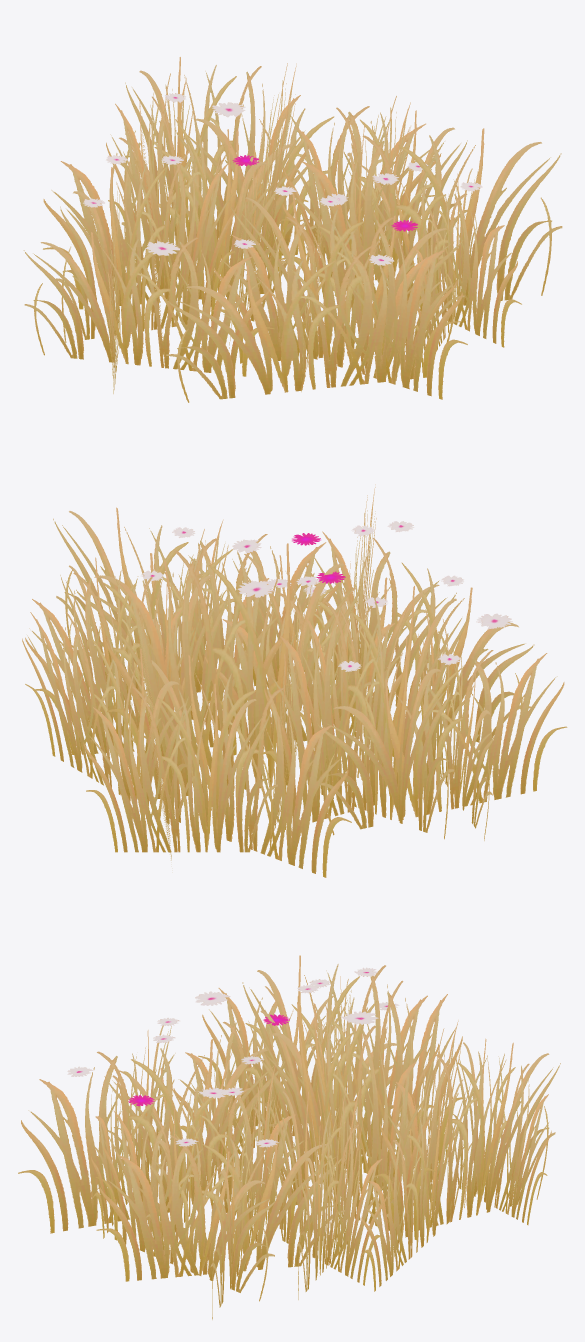
File: SM_Demo_Xiaohua_zone2_chiji.fbx
The picture shows the model from 3 angles, top to bottom: view 1: azimuth 30°, elevation 25°; view 2: azimuth 150°, elevation 25°; view 3: azimuth 270°, elevation 25°; orthographic projection. The views are drawn at different scales.
Visible parts, largest first — view 1: SM_Demo_Xiaohua_zone2_chiji.mo; view 2: SM_Demo_Xiaohua_zone2_chiji.mo; view 3: SM_Demo_Xiaohua_zone2_chiji.mo.
Part boxes in pixels (x1,y1,x2,y2): SM_Demo_Xiaohua_zone2_chiji.mo: (23, 57, 562, 402); SM_Demo_Xiaohua_zone2_chiji.mo: (22, 484, 567, 877); SM_Demo_Xiaohua_zone2_chiji.mo: (18, 955, 560, 1319).
Size of the model in its own units: 1.49 by 0.7539 by 1.49.
